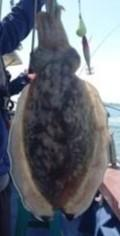Cephalopod: (10, 0, 109, 217)
